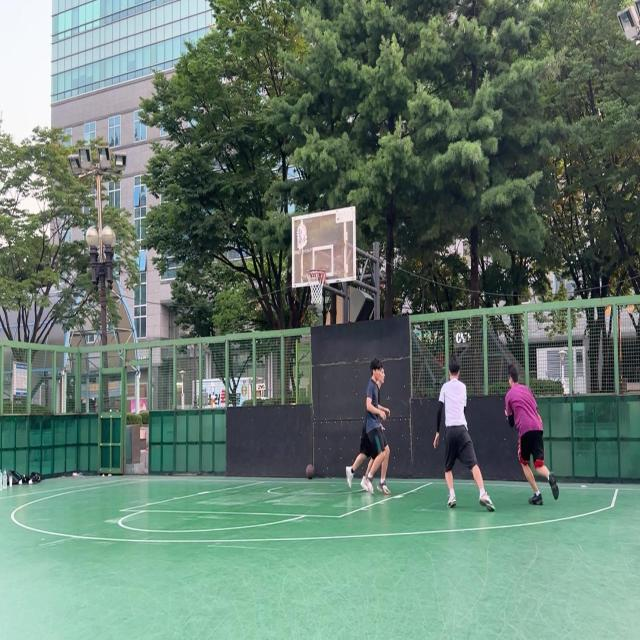basketball: (306, 464, 314, 480)
hoop: (306, 268, 326, 306)
